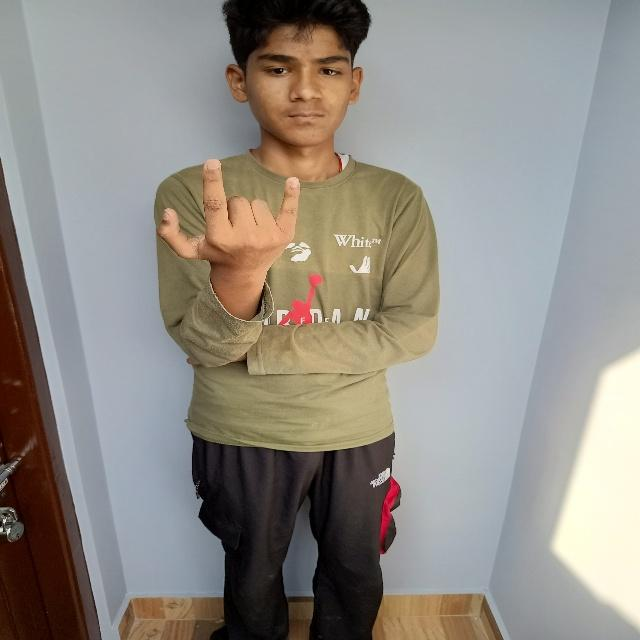Corna: (151, 147, 311, 287)
